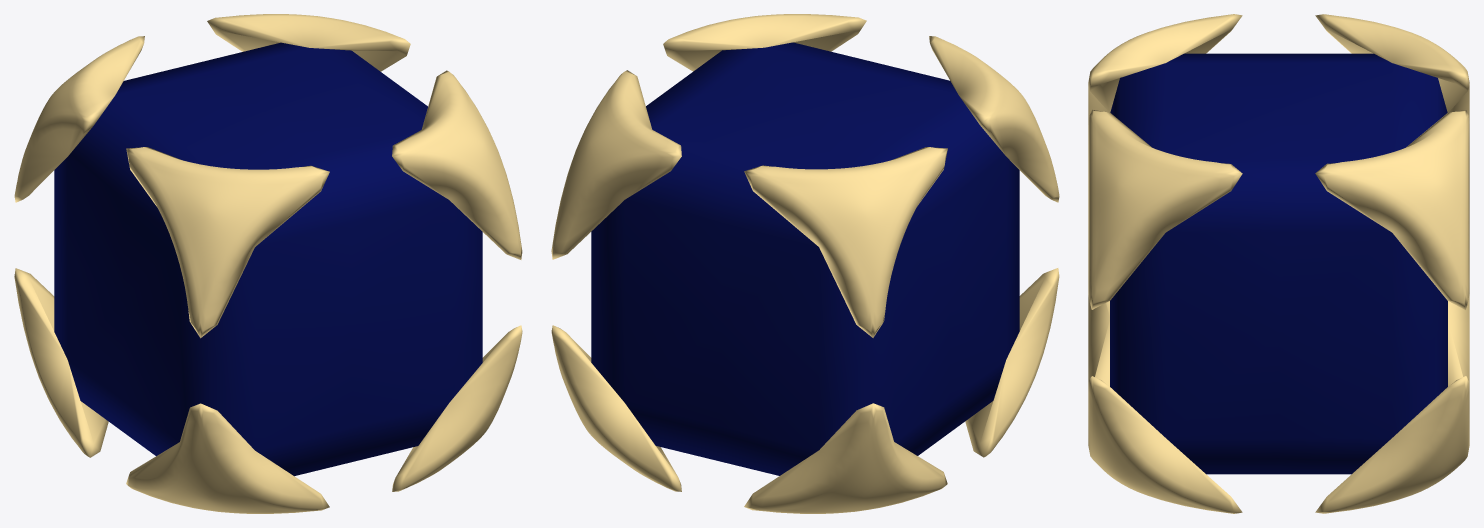
File: Dice.fbx
3 views of the same model, side by side, from view 1: azimuth 30°, elevation 25°; view 2: azimuth 150°, elevation 25°; view 3: azimuth 270°, elevation 25° (orthographic).
Parts seen in each view (by area): view 1: 立方体; view 2: 立方体; view 3: 立方体.
Part boxes in pixels (x1=…): 立方体: x1=14, y1=14, x2=522, y2=513; 立方体: x1=551, y1=14, x2=1059, y2=513; 立方体: x1=1088, y1=14, x2=1469, y2=513.
Size of the model in its own units: 99.4 by 99.4 by 99.4.
